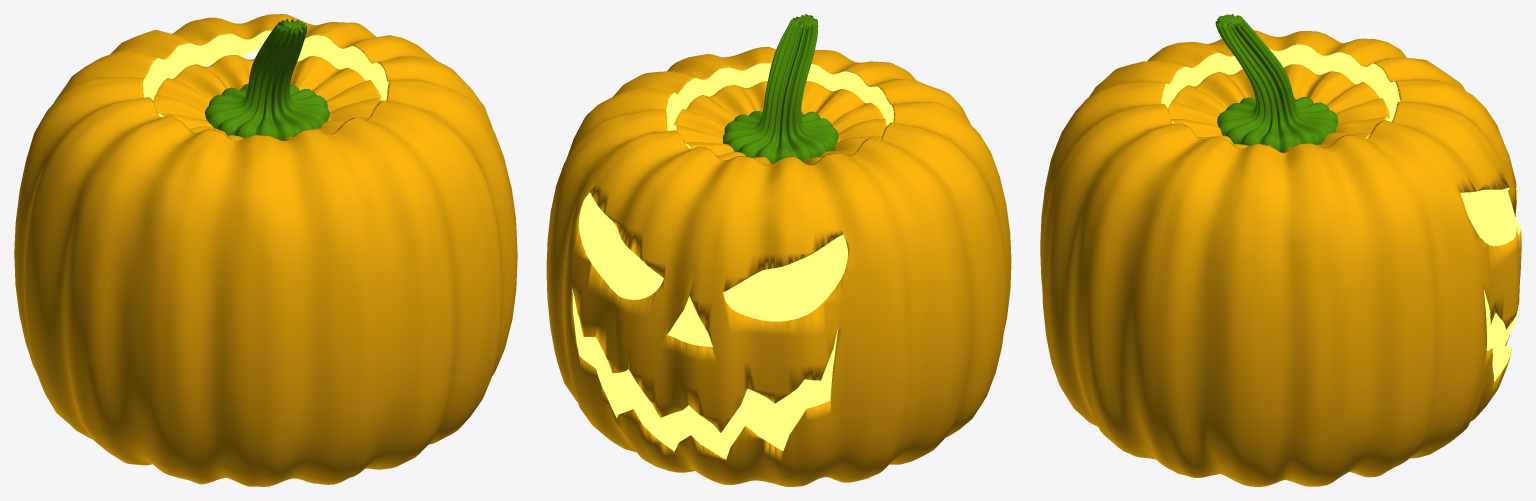
The model's file is pumpkin.fbx.
3 renders of one model, left to right at view 1: azimuth 30°, elevation 25°; view 2: azimuth 150°, elevation 25°; view 3: azimuth 270°, elevation 25°, orthographic. The views are drawn at different scales.
Visible parts, largest first — view 1: Connect, Top; view 2: Connect, Top; view 3: Connect, Top.
Part boxes in pixels (left/top/right/bottom): Connect: left=14, top=14, right=517, bottom=486; Top: left=151, top=19, right=384, bottom=141; Connect: left=546, top=46, right=1011, bottom=486; Top: left=669, top=14, right=889, bottom=165; Connect: left=1040, top=30, right=1521, bottom=486; Top: left=1165, top=14, right=1393, bottom=152.
Bounding box in the file's own units: 390 × 361 × 391.
